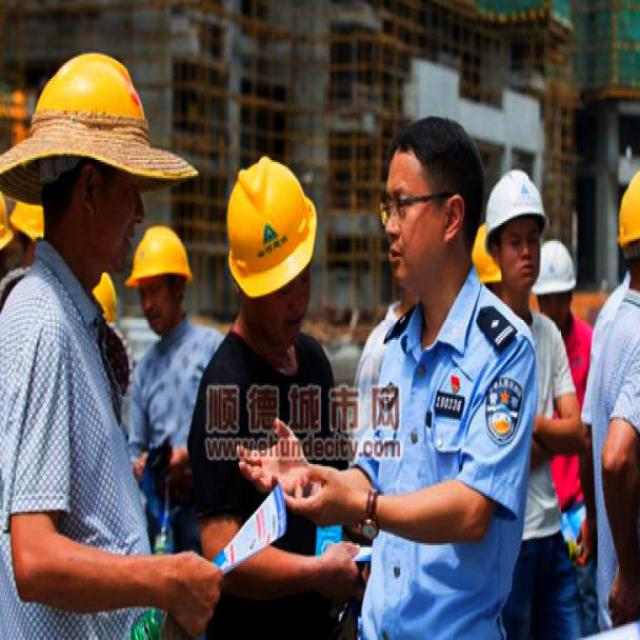helmet: (216, 134, 326, 328), (134, 200, 203, 336), (488, 160, 548, 286), (0, 160, 27, 303), (623, 146, 639, 286)
